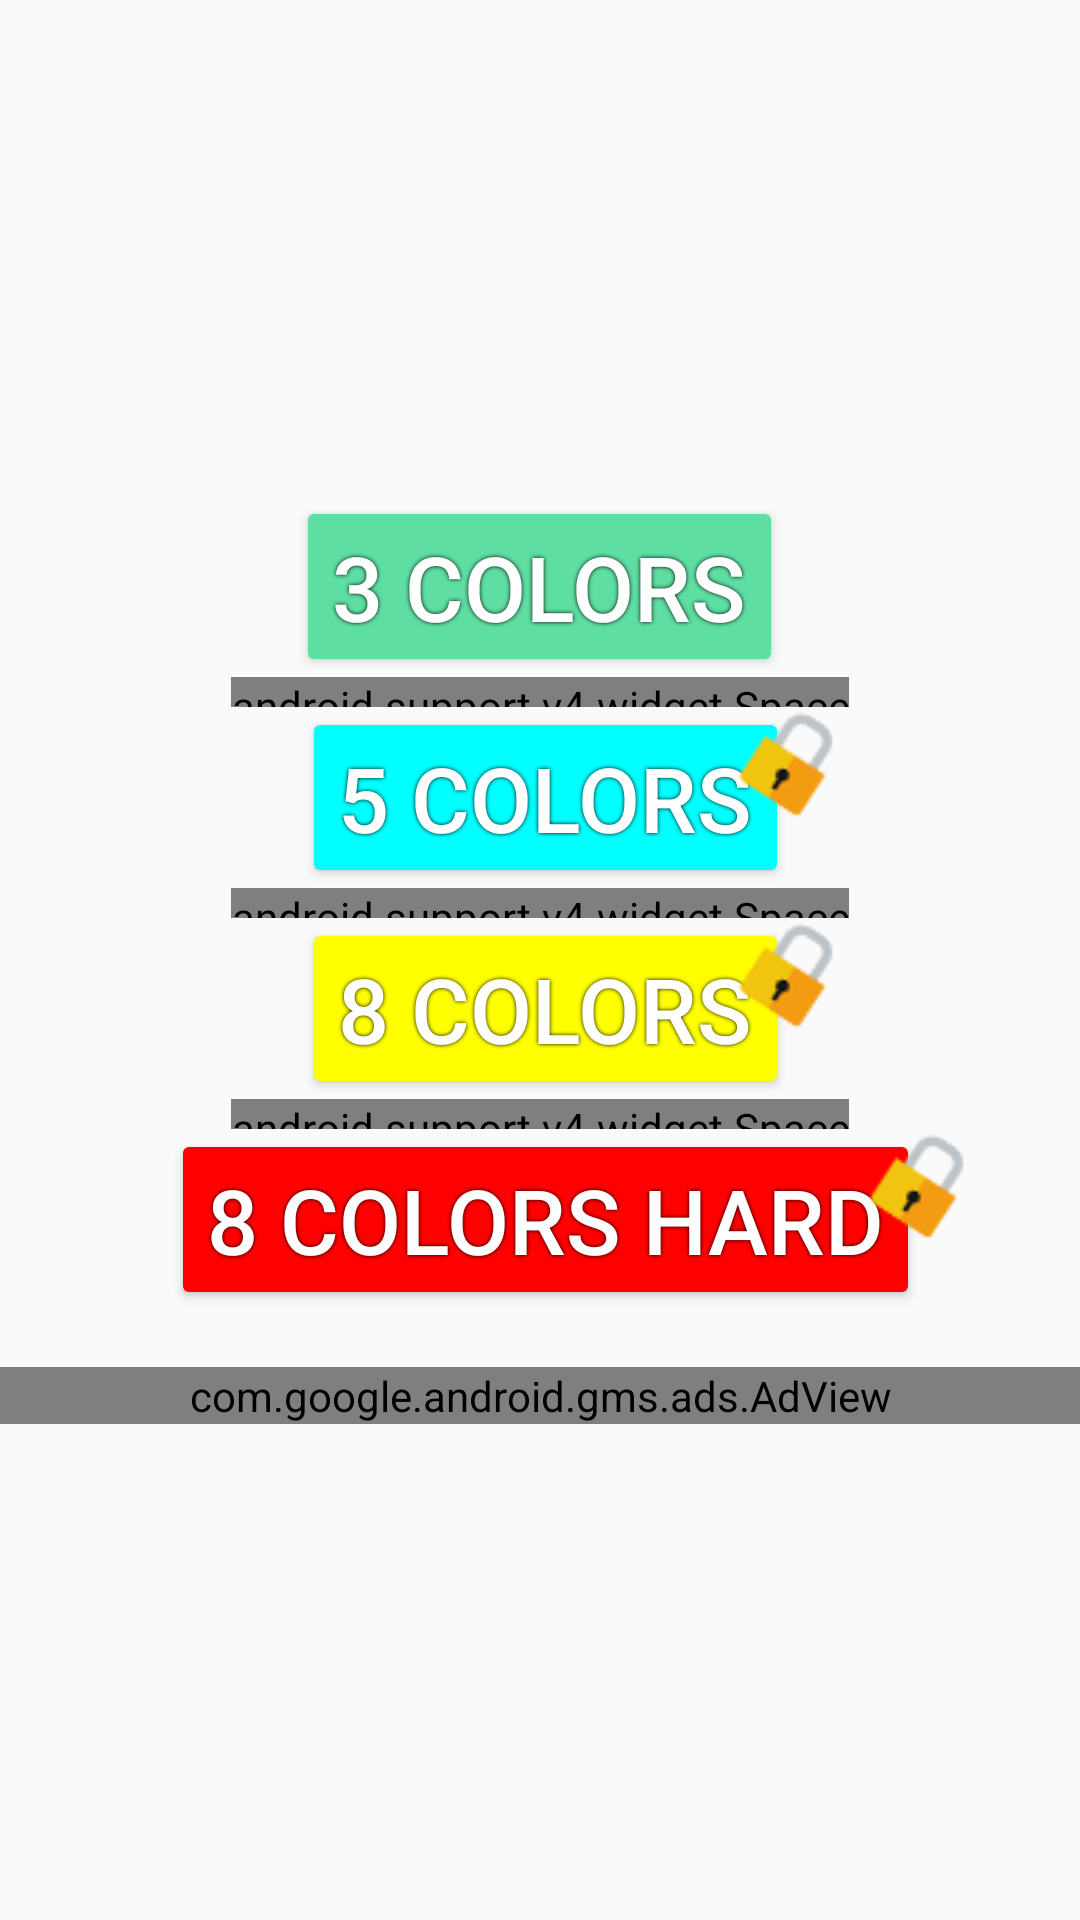

Icon click points for this 1080*1920 phone screenshot, format (x,y):
locked: (784,797), (784,1008), (912,1216)
